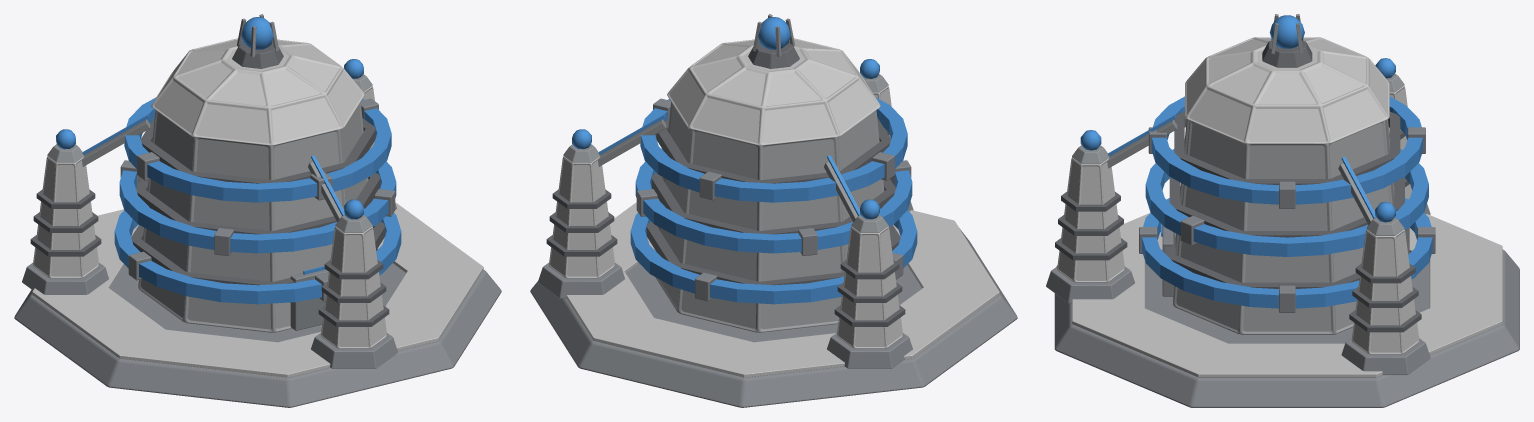
The model's file is lattice_energy_storage.glb.
3 renders of one model, left to right at view 1: azimuth 30°, elevation 25°; view 2: azimuth 150°, elevation 25°; view 3: azimuth 270°, elevation 25°, orthographic. The views are drawn at different scales.
Visible parts, largest first — view 1: Body; view 2: Body; view 3: Body.
Boxes of the visible parts, left/top/right/bottom form: Body: left=14, top=14, right=501, bottom=407; Body: left=530, top=14, right=1017, bottom=407; Body: left=1046, top=14, right=1519, bottom=407.
Size of the model in its own units: 12.68 by 8.83 by 12.91.
